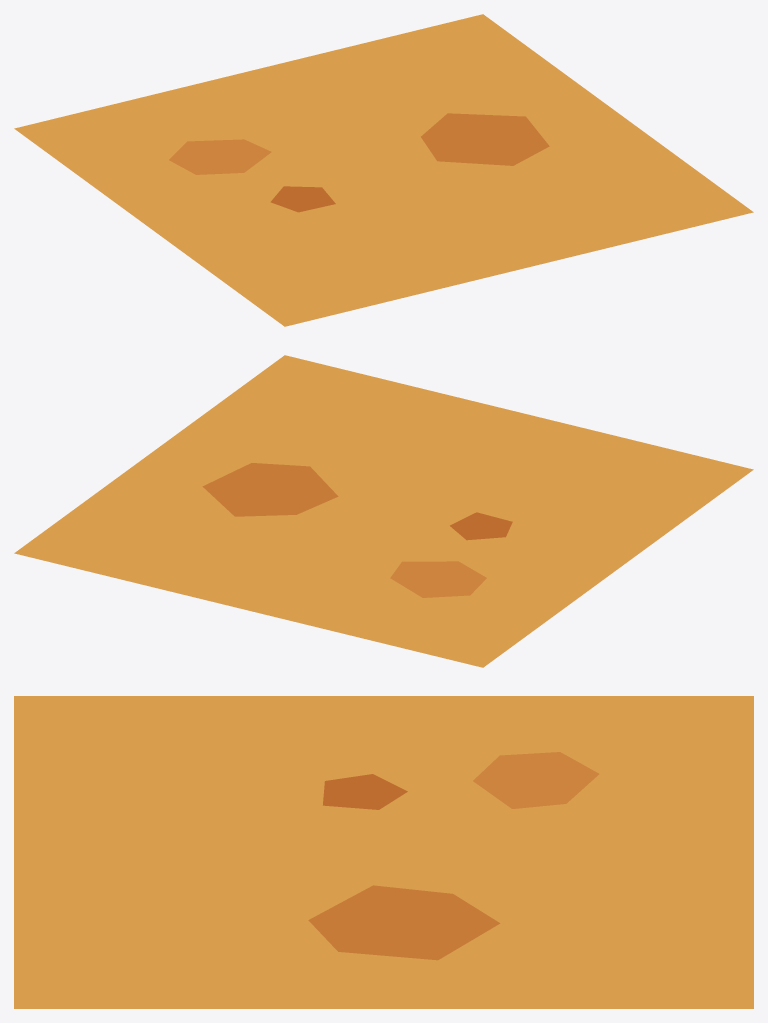
File: tile_oasis_outskirts.glb
3 views of the same model, one above another, from view 1: azimuth 30°, elevation 25°; view 2: azimuth 150°, elevation 25°; view 3: azimuth 270°, elevation 25° (orthographic). The views are drawn at different scales.
Parts seen in each view (by area): view 1: center_b; view 2: center_b; view 3: center_b.
Boxes of the visible parts, x1,y1,x2,y2 form: center_b: (14, 14, 753, 326); center_b: (14, 355, 753, 667); center_b: (14, 696, 753, 1008).
Size of the model in its own units: 2 by 0 by 2.
1 material, 1 textured.
